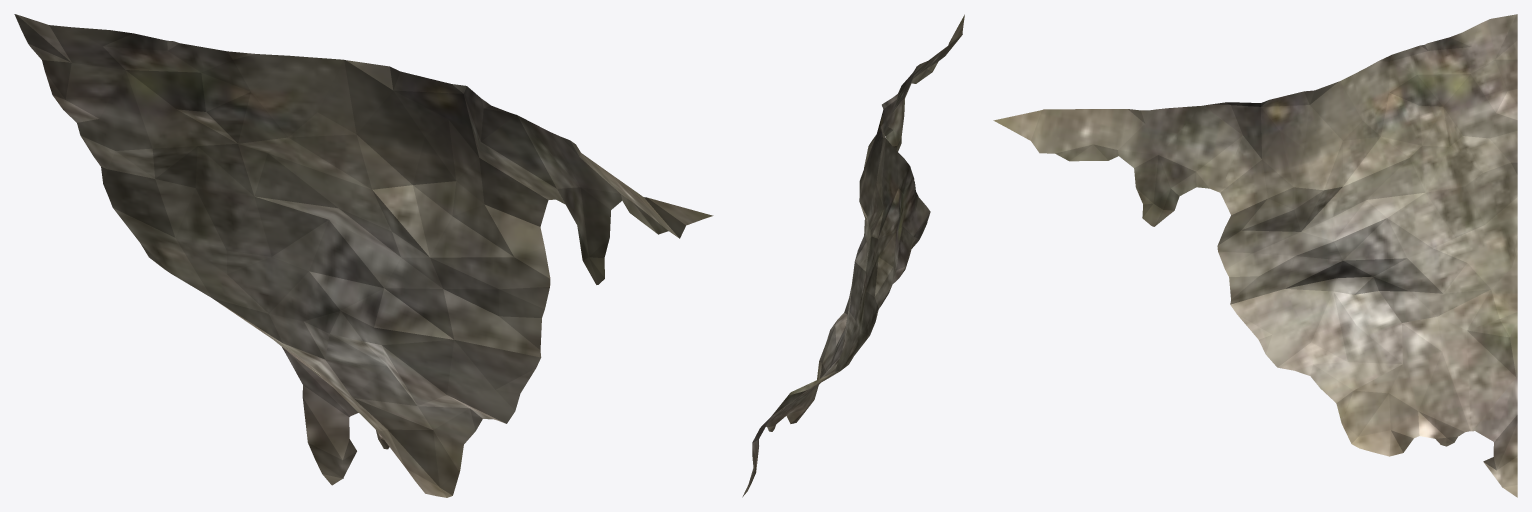
3 renders of one model, left to right at view 1: azimuth 30°, elevation 25°; view 2: azimuth 150°, elevation 25°; view 3: azimuth 270°, elevation 25°, orthographic. The views are drawn at different scales.
Bounding box in the file's own units: 1.14 × 1.88 × 2.37.
1 material, 1 textured.
